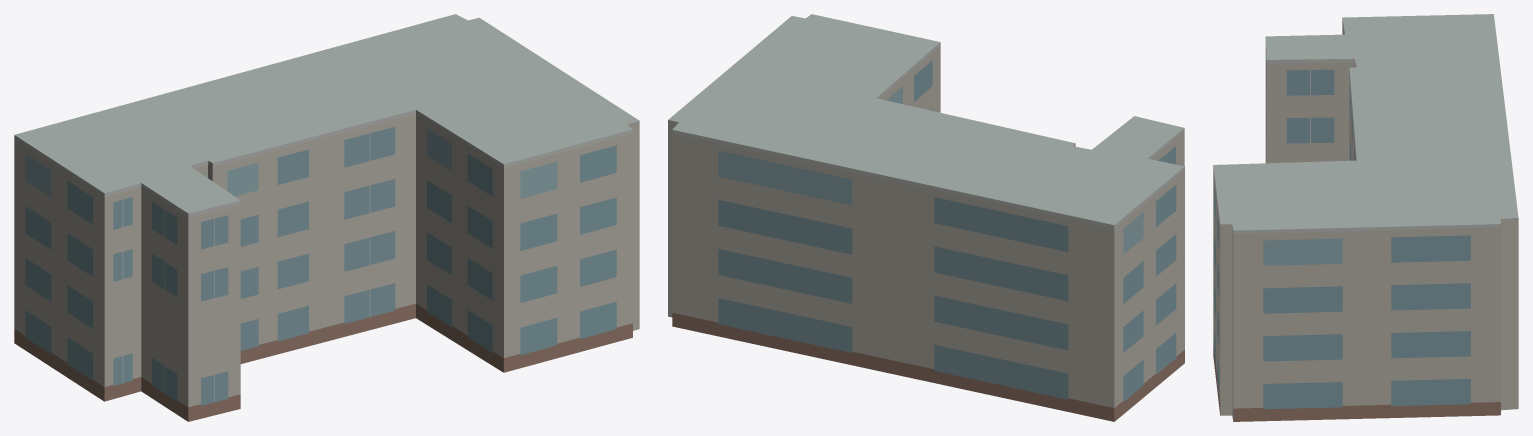
File: survey-upis-32940652.glb
The picture shows the model from 3 angles, left to right: view 1: azimuth 30°, elevation 25°; view 2: azimuth 150°, elevation 25°; view 3: azimuth 270°, elevation 25°; orthographic projection. The views are drawn at different scales.
Visible parts, largest first — view 1: survey-upis-32940652.tmp; view 2: survey-upis-32940652.tmp; view 3: survey-upis-32940652.tmp.
Boxes of the visible parts, <box> form: survey-upis-32940652.tmp: <box>14,14,639,421</box>; survey-upis-32940652.tmp: <box>668,14,1184,421</box>; survey-upis-32940652.tmp: <box>1213,14,1518,421</box>.
Bounding box in the file's own units: 32.31 × 13.3 × 19.24.
